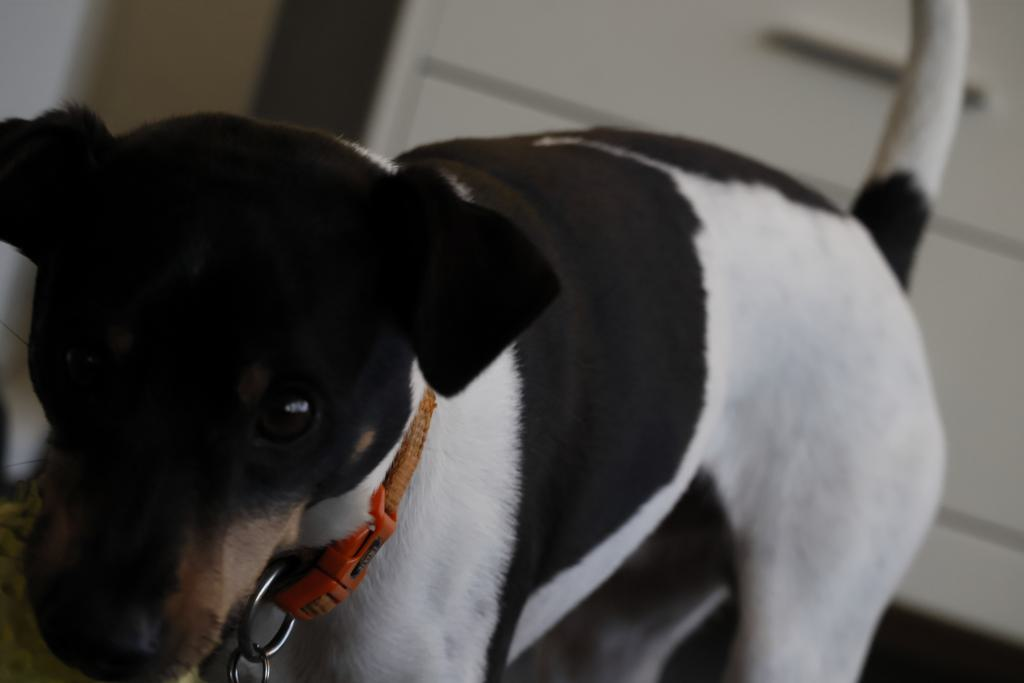Dog: (0, 0, 977, 683)
